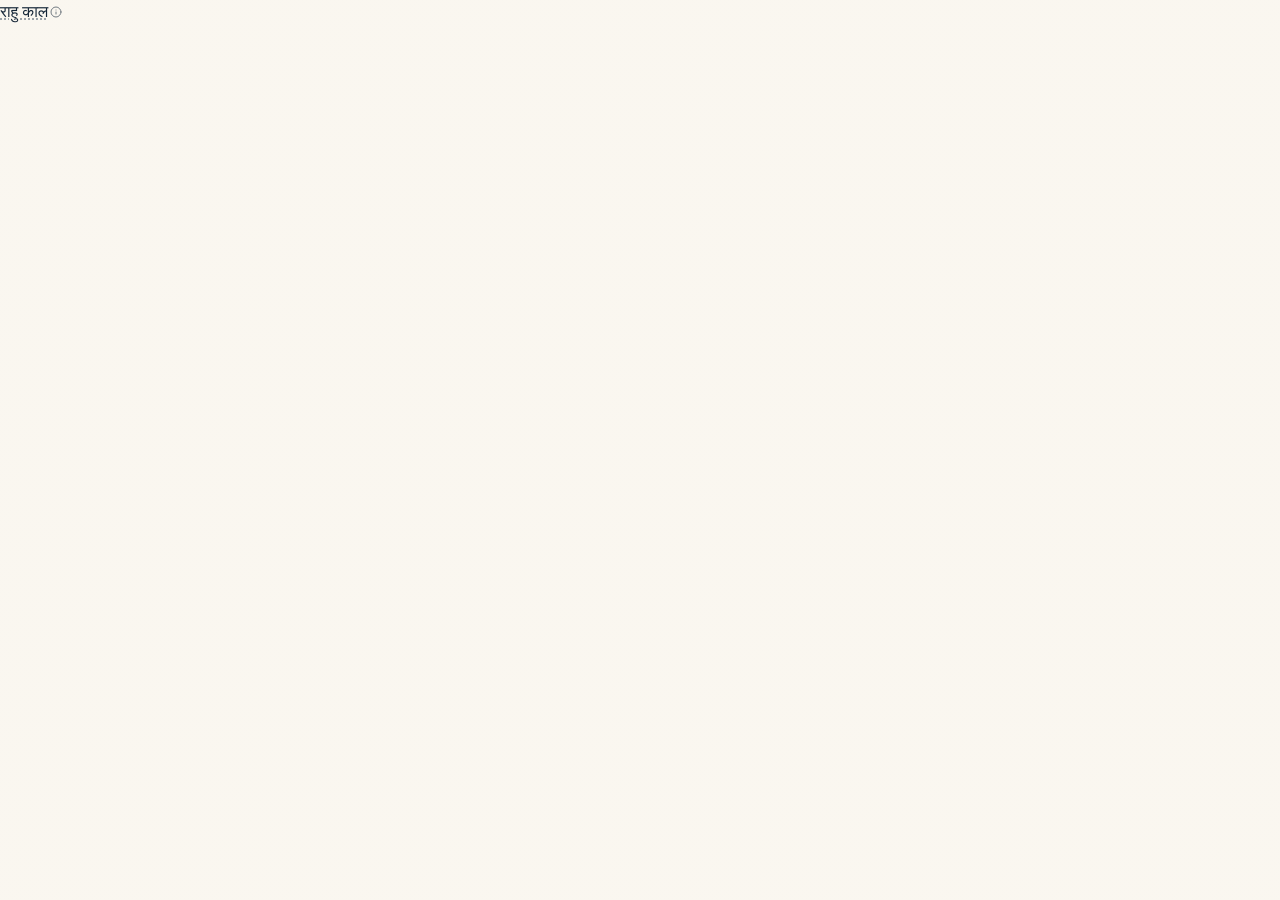
Test case: TermTip — accessible (i) popover › Hindi mode shows the Hindi name and Hindi explanation
Click the button with test id "termtip-rahuKalam".
click(31, 12)  # box [0, 0, 62, 24]
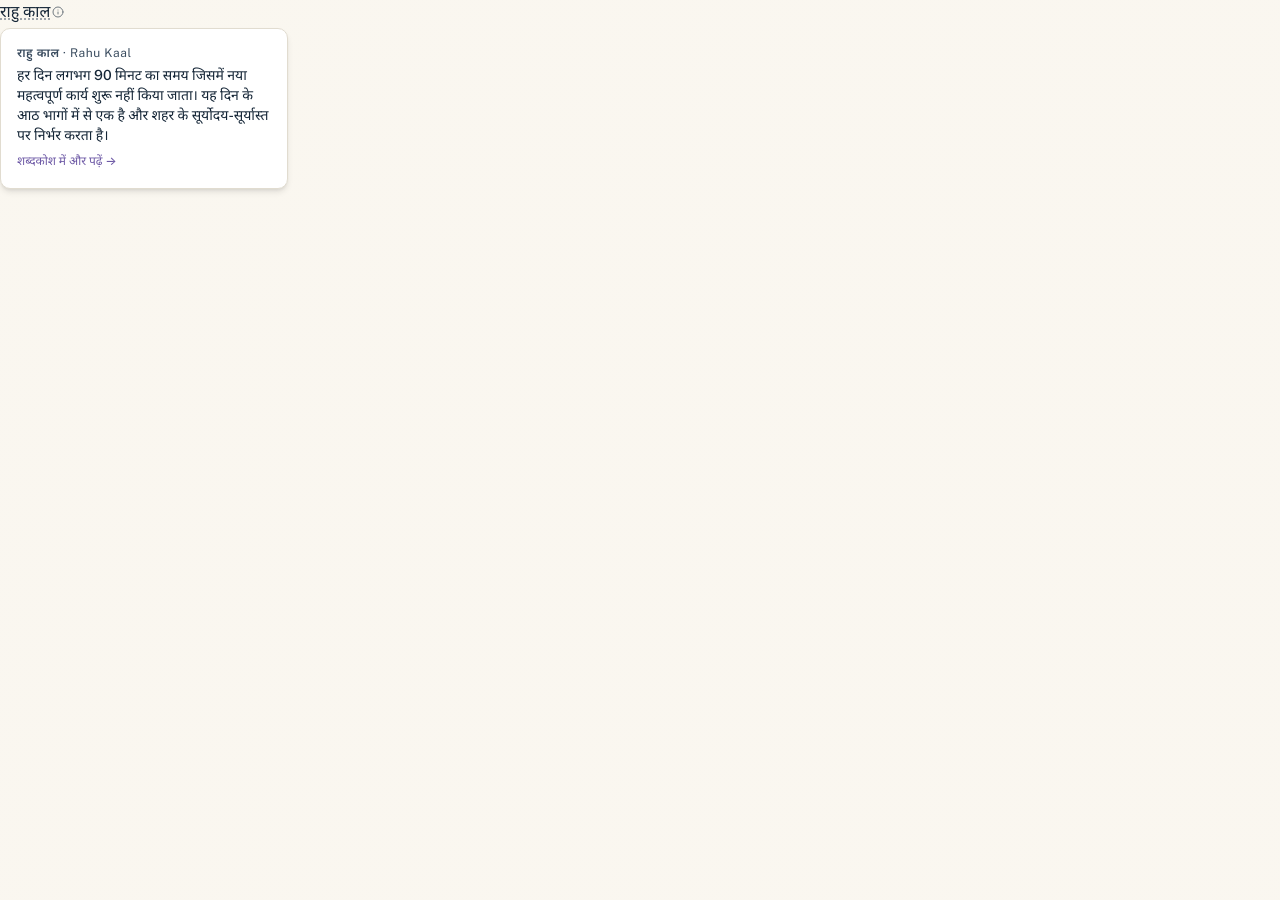
Check: the dialog shows "राहु काल", box [17, 46, 60, 60]
Check: the dialog shows "90 मिनट", box [17, 67, 268, 143]
Check: the dialog shows "शब्दकोश", box [17, 153, 117, 169]
